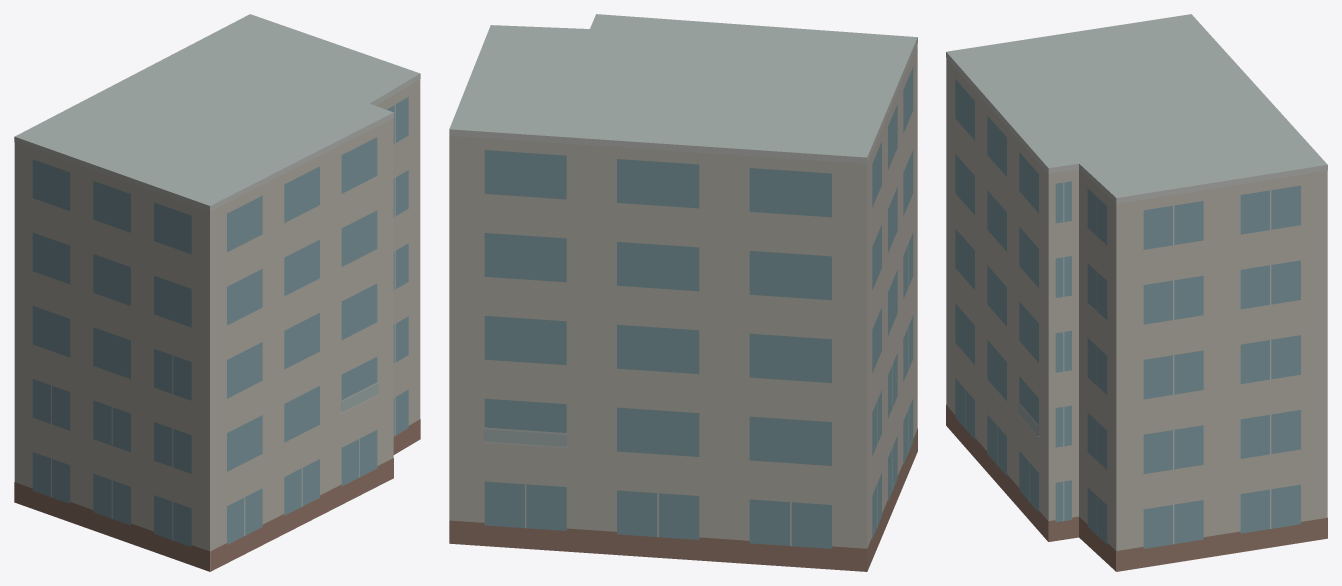
File: survey-upis-32845481.glb
3 views of the same model, side by side, from view 1: azimuth 30°, elevation 25°; view 2: azimuth 150°, elevation 25°; view 3: azimuth 270°, elevation 25° (orthographic). The views are drawn at different scales.
Visible parts, largest first — view 1: survey-upis-32845481.tmp; view 2: survey-upis-32845481.tmp; view 3: survey-upis-32845481.tmp.
Boxes of the visible parts, x1,y1,x2,y2 form: survey-upis-32845481.tmp: (14, 14, 420, 571); survey-upis-32845481.tmp: (449, 14, 917, 571); survey-upis-32845481.tmp: (946, 14, 1327, 571).
Size of the model in its own units: 16.59 by 15.7 by 14.54.
